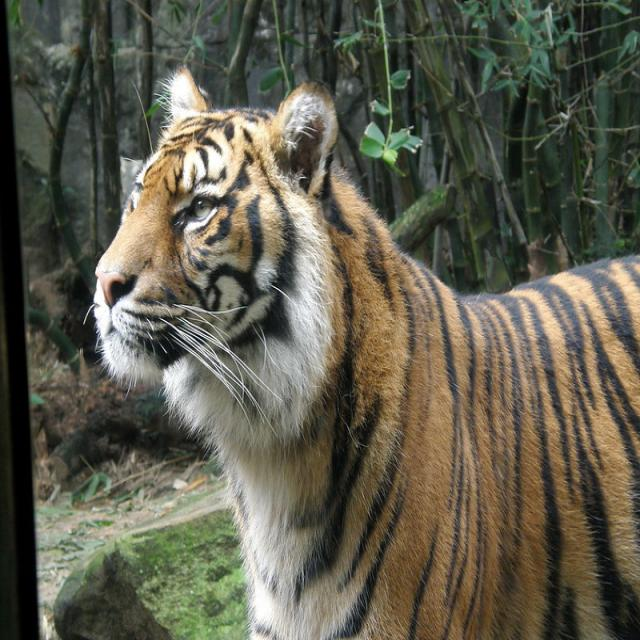Tiger: (90, 56, 637, 634)
